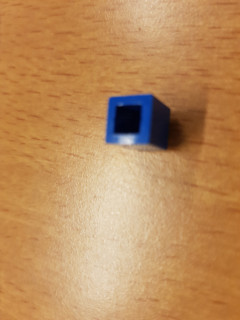1x1 blue: (101, 91, 174, 155)
